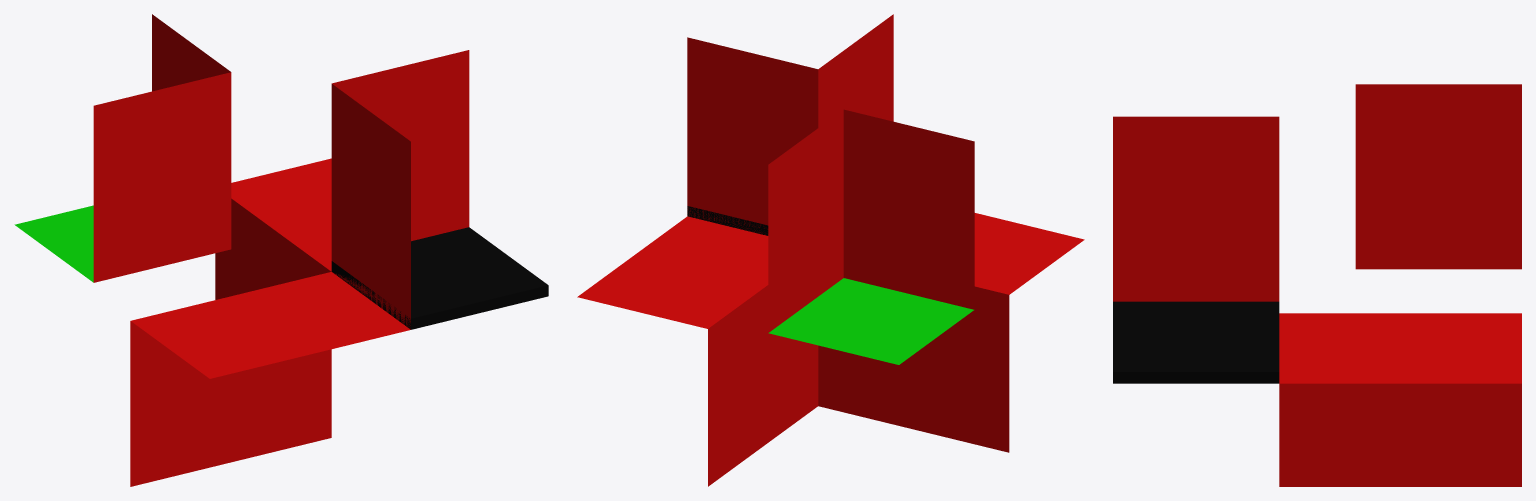
3 views of the same model, side by side, from view 1: azimuth 30°, elevation 25°; view 2: azimuth 150°, elevation 25°; view 3: azimuth 270°, elevation 25° (orthographic). The views are drawn at different scales.
Visible parts, largest first — view 1: None_E_P_A_E_W_E_E_A_None; view 2: None_E_P_A_E_W_E_E_A_None; view 3: None_E_P_A_E_W_E_E_A_None.
Boxes of the visible parts, <box> form: None_E_P_A_E_W_E_E_A_None: <box>14,14,548,486</box>; None_E_P_A_E_W_E_E_A_None: <box>577,14,1084,486</box>; None_E_P_A_E_W_E_E_A_None: <box>1113,84,1521,486</box>.
Bounding box in the file's own units: 100 × 100 × 100.
